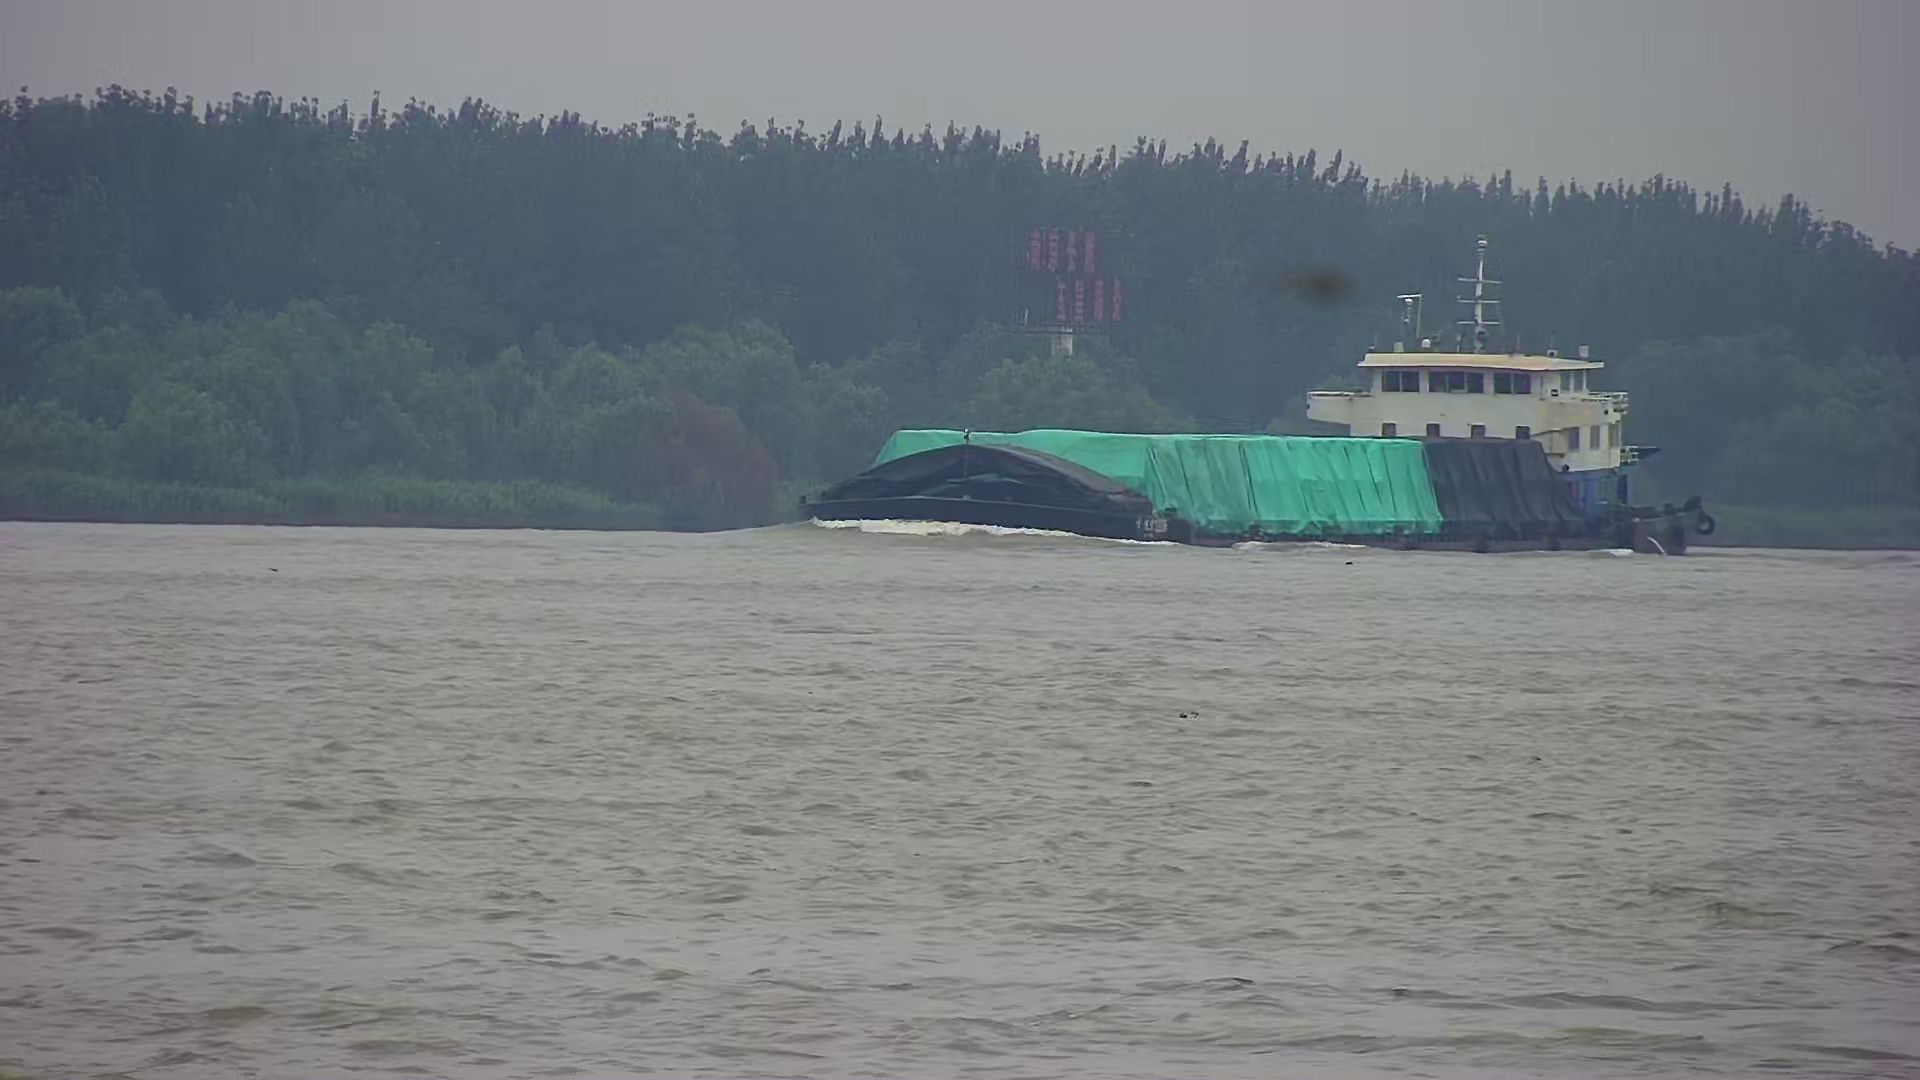ship: (786, 330, 1713, 553)
